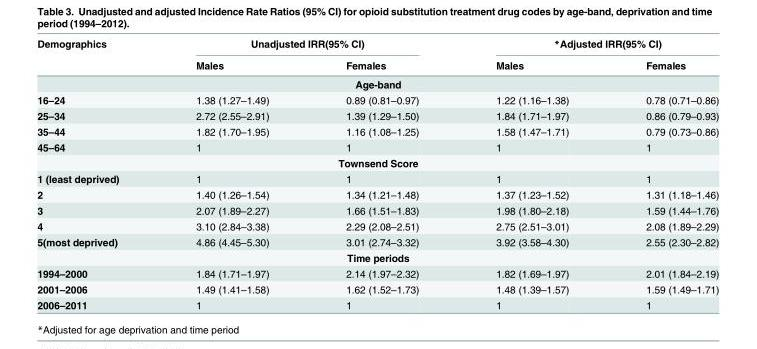table: (36, 37, 718, 310)
table column: (156, 37, 306, 310), (306, 37, 456, 310), (456, 37, 606, 310), (36, 37, 156, 310), (606, 37, 718, 310)
table column header: (36, 37, 718, 74)
table projected row header: (36, 74, 718, 91), (36, 154, 718, 170), (36, 249, 718, 265)
table row: (36, 54, 718, 74), (36, 37, 718, 54), (36, 74, 718, 91), (36, 91, 718, 107), (36, 107, 718, 123), (36, 138, 718, 154), (36, 154, 718, 170), (36, 170, 718, 186), (36, 186, 718, 202), (36, 217, 718, 233), (36, 233, 718, 249), (36, 249, 718, 265), (36, 280, 718, 296), (36, 123, 718, 138), (36, 202, 718, 217), (36, 265, 718, 280), (36, 296, 718, 310)
table spanning cell: (156, 37, 456, 54), (456, 37, 718, 54), (36, 37, 156, 74)
